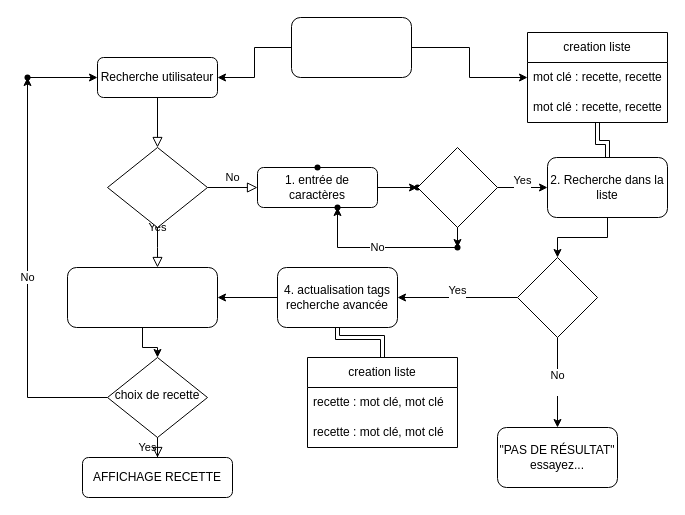
The diagram is 685 pixels wide and 515 high, and some of its shapes have lost their labels. Each missing label, with the box of its shape:
3.actualisation liste actualisation display: (66, 266, 218, 328)
Display initial : liste non triée: (290, 16, 412, 78)
fin saisie caractères: (416, 146, 498, 228)
Liste existe: (516, 256, 598, 338)
recherche par tag: (106, 146, 208, 228)
